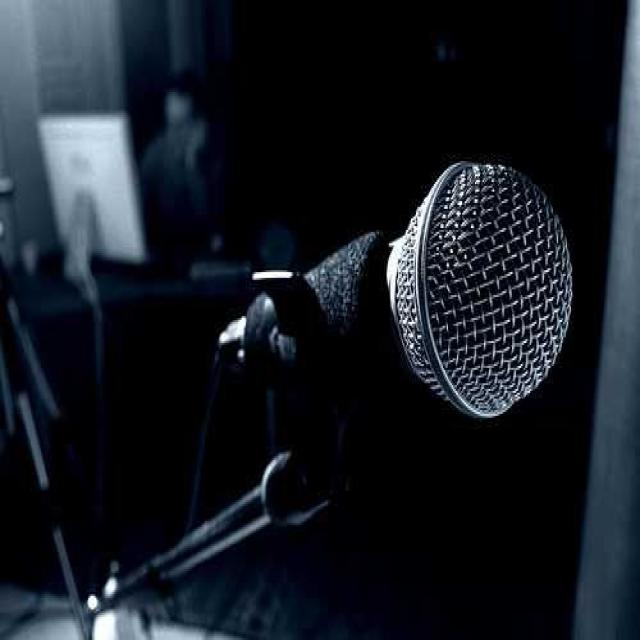microphone: (255, 162, 572, 432)
